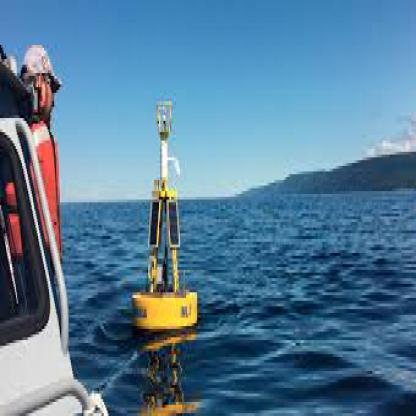buoy: (118, 84, 203, 343)
